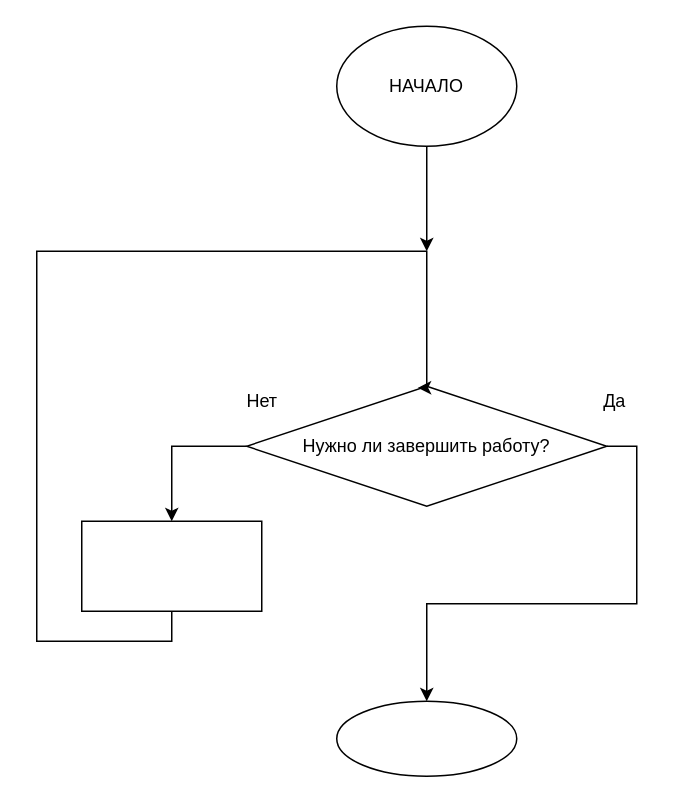
Image size: 675x803. Some labels were removed from this diagram. Each missing label, with the box of its shape:
Конец: (335, 700, 517, 776)
Обработка нажатия кнопок: (80, 520, 262, 611)
